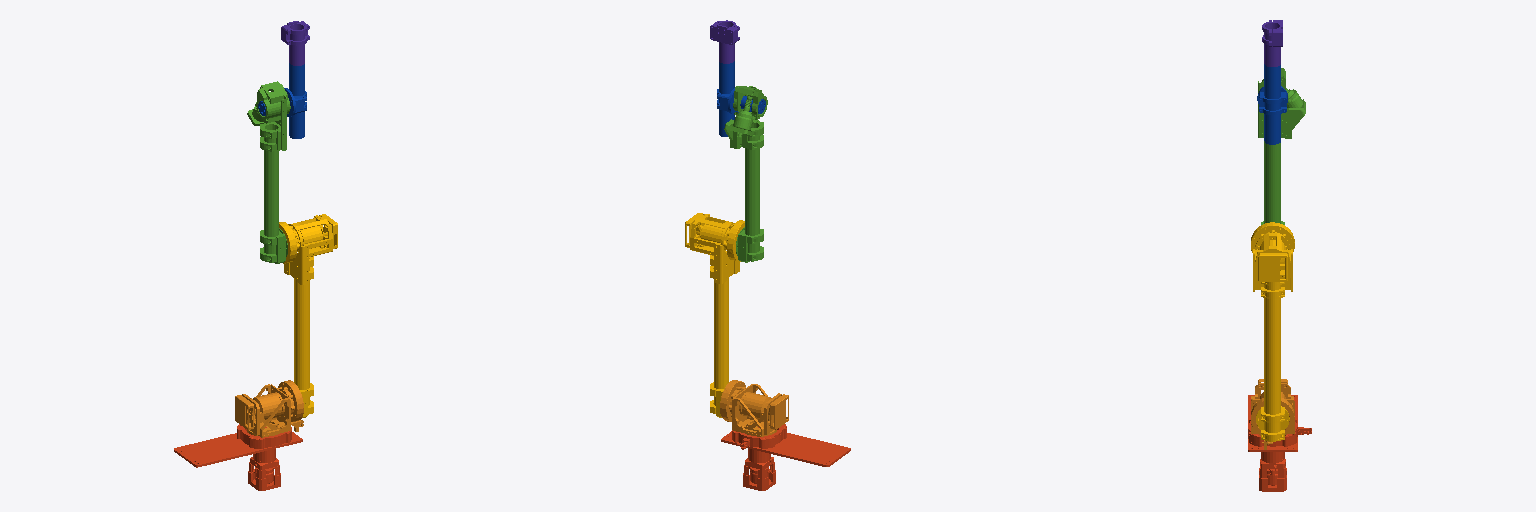
URDF robot description (kanga_arm):
<?xml version="1.0" ?>
<!-- Generated using onshape-to-robot -->
<!-- Onshape https://tronsoc.onshape.com/documents/5c74485ef1d773fbe17b5191/w/13a360a01956ee72624f8844/e/4f69a19437168b6ccd258c1e -->
<robot name="kanga_arm">
    <!-- World link -->
  <link name="world"/>
  <!-- World fixed joint -->
  <joint name="world_to_link_0" type="fixed">
    <origin xyz="0 0 0.51" rpy="0 0 0"/>
    <parent link="world"/>
    <child link="link_0"/>
  </joint>
  <!-- Link link_0 -->
  <link name="link_0">
    <inertial>
      <origin xyz="0.0534431 0.000868494 -0.0329755" rpy="0 0 0"/>
      <mass value="5"/>
      <inertia ixx="0.0143756" ixy="-0.000113651" ixz="0.00411707" iyy="0.0335068" iyz="-0.000197677" izz="0.0276021"/>
    </inertial>
    <!-- Part link_0 -->
    <visual>
      <origin xyz="0.000312299 -3.32401e-08 -0.006" rpy="0 -0 0"/>
      <geometry>
        <mesh filename="meshes/link_0.obj"/>
      </geometry>
      <material name="link_0_material">
        <color rgba="0.866667 0.321569 0.156863 1.0"/>
      </material>
    </visual>
    <collision>
      <origin xyz="0.000312299 -3.32401e-08 -0.006" rpy="0 -0 0"/>
      <geometry>
        <mesh filename="meshes/link_0.obj"/>
      </geometry>
    </collision>
  </link>
  <!-- Link link_1 -->
  <link name="link_1">
    <inertial>
      <origin xyz="0.0141715 3.85445e-05 -0.0327671" rpy="0 0 0"/>
      <mass value="5"/>
      <inertia ixx="0.00914075" ixy="-7.10124e-05" ixz="0.00118567" iyy="0.0125745" iyz="-3.34095e-05" izz="0.00973681"/>
    </inertial>
    <!-- Part link_1 -->
    <visual>
      <origin xyz="-0.0371177 -0.00307196 -0.00542623" rpy="3.14159 -6.12323e-17 3.14159"/>
      <geometry>
        <mesh filename="meshes/link_1.obj"/>
      </geometry>
      <material name="link_1_material">
        <color rgba="0.909804 0.572549 0.164706 1.0"/>
      </material>
    </visual>
    <collision>
      <origin xyz="-0.0371177 -0.00307196 -0.00542623" rpy="3.14159 -6.12323e-17 3.14159"/>
      <geometry>
        <mesh filename="meshes/link_1.obj"/>
      </geometry>
    </collision>
  </link>
  <!-- Link link_2 -->
  <link name="link_2">
    <inertial>
      <origin xyz="5.45232e-05 0.335701 -0.0248492" rpy="0 0 0"/>
      <mass value="5"/>
      <inertia ixx="0.158059" ixy="-3.20939e-05" ixz="2.2818e-05" iyy="0.0074061" iyz="0.00337889" izz="0.155572"/>
    </inertial>
    <!-- Part link_2 -->
    <visual>
      <origin xyz="-1.98995e-16 -0.0333952 -0.0255" rpy="-3.14159 -5.29833e-16 3.14159"/>
      <geometry>
        <mesh filename="meshes/link_2.obj"/>
      </geometry>
      <material name="link_2_material">
        <color rgba="1 0.756863 0.054902 1.0"/>
      </material>
    </visual>
    <collision>
      <origin xyz="-1.98995e-16 -0.0333952 -0.0255" rpy="-3.14159 -5.29833e-16 3.14159"/>
      <geometry>
        <mesh filename="meshes/link_2.obj"/>
      </geometry>
    </collision>
  </link>
  <!-- Link link_3 -->
  <link name="link_3">
    <inertial>
      <origin xyz="-0.0107315 0.240757 0.017578" rpy="0 0 0"/>
      <mass value="5"/>
      <inertia ixx="0.130069" ixy="0.00589728" ixz="-9.80635e-06" iyy="0.00511715" iyz="-0.000225701" izz="0.132132"/>
    </inertial>
    <!-- Part link_3 -->
    <visual>
      <origin xyz="1.97833e-16 -0.0333952 0.0245" rpy="0 6.95044e-43 0"/>
      <geometry>
        <mesh filename="meshes/link_3.obj"/>
      </geometry>
      <material name="link_3_material">
        <color rgba="0.372549 0.654902 0.239216 1.0"/>
      </material>
    </visual>
    <collision>
      <origin xyz="1.97833e-16 -0.0333952 0.0245" rpy="0 6.95044e-43 0"/>
      <geometry>
        <mesh filename="meshes/link_3.obj"/>
      </geometry>
    </collision>
  </link>
  <!-- Link link_4 -->
  <link name="link_4">
    <inertial>
      <origin xyz="0.000664347 2.06841e-06 -0.00753482" rpy="0 0 0"/>
      <mass value="5"/>
      <inertia ixx="0.00649147" ixy="6.26753e-09" ixz="9.42994e-05" iyy="0.0104622" iyz="-4.74984e-07" izz="0.00657256"/>
    </inertial>
    <!-- Part link_4 -->
    <visual>
      <origin xyz="-1.11022e-16 5.55112e-17 -0.011" rpy="-3.14159 -2.27429e-31 7.39557e-31"/>
      <geometry>
        <mesh filename="meshes/link_4.obj"/>
      </geometry>
      <material name="link_4_material">
        <color rgba="0.0862745 0.317647 0.690196 1.0"/>
      </material>
    </visual>
    <collision>
      <origin xyz="-1.11022e-16 5.55112e-17 -0.011" rpy="-3.14159 -2.27429e-31 7.39557e-31"/>
      <geometry>
        <mesh filename="meshes/link_4.obj"/>
      </geometry>
    </collision>
  </link>
  <!-- Link link_5 -->
  <link name="link_5">
    <inertial>
      <origin xyz="-0.0113933 2.31724e-05 -0.100894" rpy="0 0 0"/>
      <mass value="10"/>
      <inertia ixx="0.022763" ixy="-8.01316e-06" ixz="-0.00251424" iyy="0.0178912" iyz="3.7123e-06" izz="0.00929558"/>
    </inertial>
    <!-- Part fre_gripper__fixed -->
    <visual>
      <origin xyz="-0.0244197 0.0030445 -0.23805" rpy="-1.5708 2.38143e-14 1.5708"/>
      <geometry>
        <mesh filename="meshes/fre_gripper__fixed.obj"/>
      </geometry>
      <material name="fre_gripper__fixed_material">
        <color rgba="0.596078 0.121569 0.67451 1.0"/>
      </material>
    </visual>
    <collision>
      <origin xyz="-0.0244197 0.0030445 -0.23805" rpy="-1.5708 2.38143e-14 1.5708"/>
      <geometry>
        <mesh filename="meshes/fre_gripper__fixed.obj"/>
      </geometry>
    </collision>
    <!-- Part link_5 -->
    <visual>
      <origin xyz="-0.025 -3.41671e-14 -0.08" rpy="3.14159 -1.5708 0"/>
      <geometry>
        <mesh filename="meshes/link_5.obj"/>
      </geometry>
      <material name="link_5_material">
        <color rgba="0.368627 0.25098 0.643137 1.0"/>
      </material>
    </visual>
    <collision>
      <origin xyz="-0.025 -3.41671e-14 -0.08" rpy="3.14159 -1.5708 0"/>
      <geometry>
        <mesh filename="meshes/link_5.obj"/>
      </geometry>
    </collision>
  </link>
  <!-- Joint from link_4 to link_5 -->
  <joint name="J5" type="revolute">
    <origin xyz="0.105 3.43113e-14 -0.036" rpy="1.5708 3.82745e-33 -1.5708"/>
    <parent link="link_4"/>
    <child link="link_5"/>
    <axis xyz="0 0 1"/>
    <limit effort="1000" velocity="1000" lower="-1.5708" upper="1.5708"/>
  </joint>
  <!-- Joint from link_3 to link_4 -->
  <joint name="J4" type="revolute">
    <origin xyz="1.04906e-09 0.39 -0.015" rpy="-2.88523e-28 3.54659e-14 1.5708"/>
    <parent link="link_3"/>
    <child link="link_4"/>
    <axis xyz="0 0 1"/>
    <limit effort="1000" velocity="1000" lower="-1.309" upper="2.35619"/>
  </joint>
  <!-- Joint from link_2 to link_3 -->
  <joint name="J3" type="revolute">
    <origin xyz="2.76827e-16 0.45 0.0405" rpy="2.51629e-16 -8.53162e-16 -1.77023e-14"/>
    <parent link="link_2"/>
    <child link="link_3"/>
    <axis xyz="0 0 1"/>
    <limit effort="1000" velocity="1000" lower="-1.8326" upper="2.87979"/>
  </joint>
  <!-- Joint from link_1 to link_2 -->
  <joint name="J2" type="revolute">
    <origin xyz="0.0855 -1.39264e-05 -0.056" rpy="-1.5708 -6.12323e-17 1.5708"/>
    <parent link="link_1"/>
    <child link="link_2"/>
    <axis xyz="0 0 1"/>
    <limit effort="1000" velocity="1000" lower="-1.5708" upper="2.44346"/>
  </joint>
  <!-- Joint from link_0 to link_1 -->
  <joint name="J1" type="revolute">
    <origin xyz="0.0809077 1.48087e-17 0.028" rpy="3.14159 -9.91271e-17 1.75639e-48"/>
    <parent link="link_0"/>
    <child link="link_1"/>
    <axis xyz="0 0 1"/>
    <limit effort="1000" velocity="1000" lower="-1.5708" upper="1.5708"/>
  </joint>
</robot>

--- Facts derived from the render (not from the file) ---
Views: 3 orthographic renders of the robot side by side, from view 1: azimuth 30°, elevation 25°; view 2: azimuth 150°, elevation 25°; view 3: azimuth 270°, elevation 25°.
Robot: kanga_arm — 7 links, 6 joints (5 revolute, 1 fixed); root link world; default pose: every joint at zero.
Links seen in each view (by area): view 1: link_2, link_3, link_0, link_1, link_4, link_5; view 2: link_2, link_3, link_0, link_1, link_4, link_5; view 3: link_2, link_3, link_0, link_4, link_1, link_5.
Boxes of the visible links, left/top/right/bottom form: link_2: left=279, top=214, right=337, bottom=417; link_3: left=247, top=81, right=290, bottom=263; link_0: left=174, top=424, right=302, bottom=490; link_1: left=235, top=380, right=303, bottom=437; link_4: left=258, top=63, right=306, bottom=138; link_5: left=281, top=21, right=309, bottom=65; link_2: left=685, top=213, right=744, bottom=417; link_3: left=724, top=86, right=767, bottom=262; link_0: left=721, top=424, right=850, bottom=490; link_1: left=720, top=380, right=788, bottom=436; link_4: left=717, top=61, right=765, bottom=136; link_5: left=710, top=20, right=739, bottom=63; link_2: left=1251, top=222, right=1294, bottom=441; link_3: left=1258, top=68, right=1305, bottom=224; link_0: left=1248, top=395, right=1311, bottom=491; link_4: left=1257, top=64, right=1287, bottom=144; link_1: left=1251, top=379, right=1294, bottom=449; link_5: left=1262, top=20, right=1282, bottom=66.
Bounding box of the posed robot: 0.4313 × 0.1544 × 1.27 m (x, y, z).
Meshes: 7 distinct files referenced, 6 mesh visuals loaded (6 OBJ); not drawn: 1 (reference not matched to a file when rendering).
